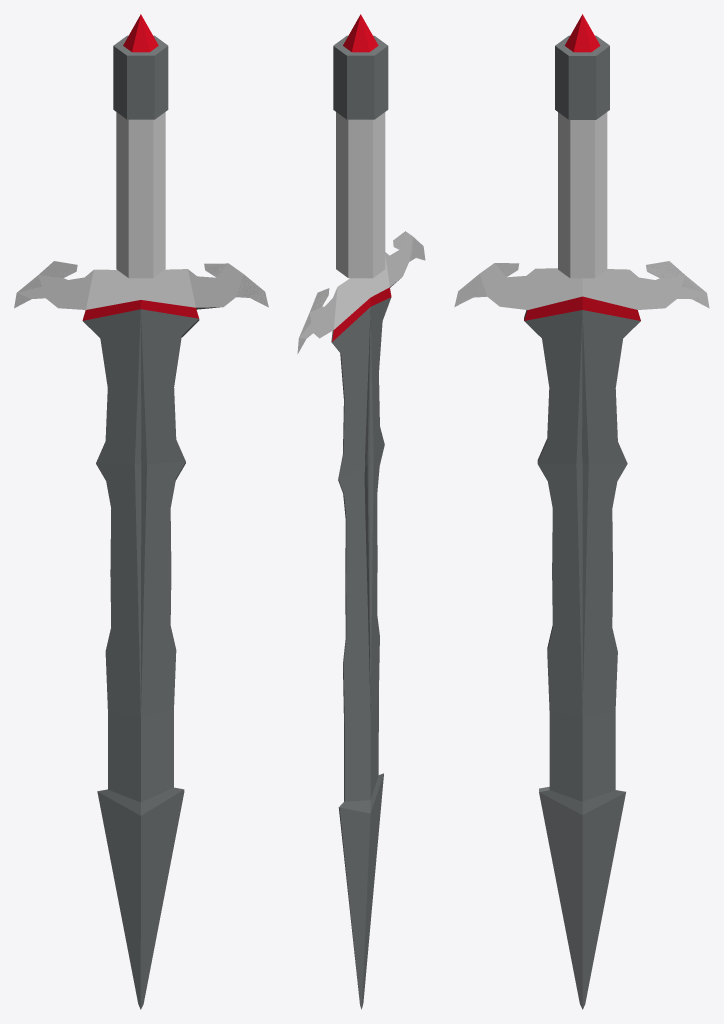
File: Espada.fbx
3 renders of one model, left to right at view 1: azimuth 90°, elevation 25°; view 2: azimuth 150°, elevation 25°; view 3: azimuth 270°, elevation 25°, orthographic.
Visible parts, largest first — view 1: Cube; view 2: Cube; view 3: Cube.
Part boxes in pixels (x1=…): Cube: x1=14, y1=14, x2=268, y2=1009; Cube: x1=297, y1=14, x2=425, y2=1009; Cube: x1=454, y1=14, x2=709, y2=1009.
Size of the model in its own units: 21.2 by 489 by 113.
